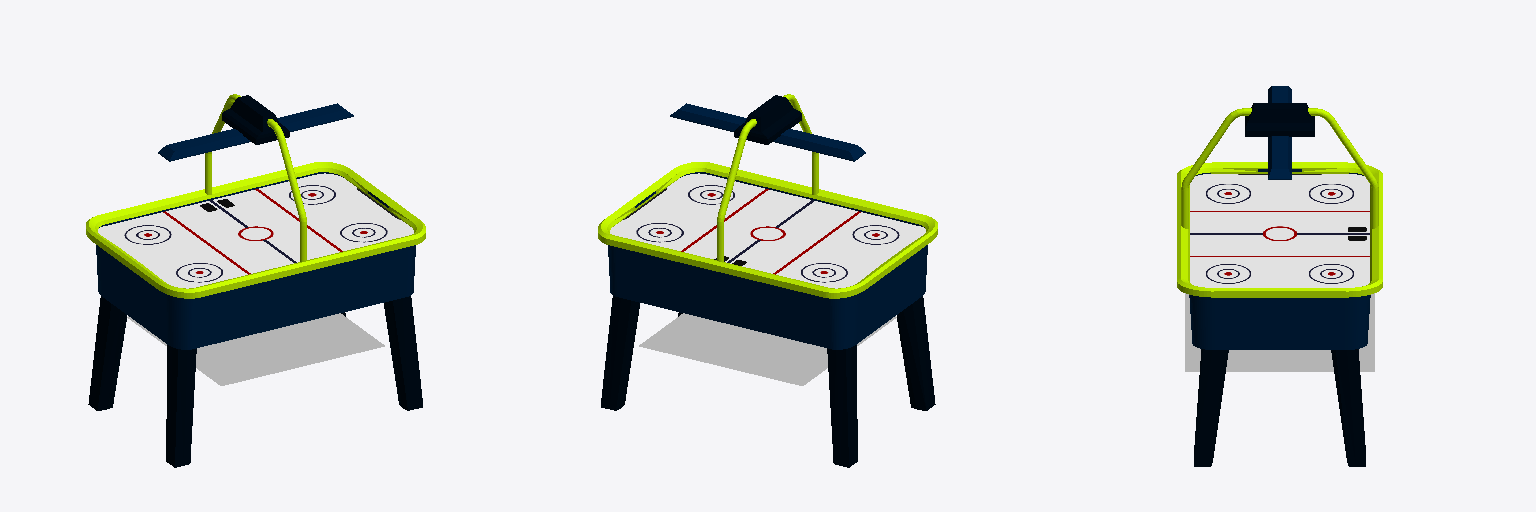
3 renders of one model, left to right at view 1: azimuth 30°, elevation 25°; view 2: azimuth 150°, elevation 25°; view 3: azimuth 270°, elevation 25°, orthographic.
Visible parts, largest first — view 1: GEO_airhockeytable_Plane, Plane; view 2: GEO_airhockeytable_Plane, Plane; view 3: GEO_airhockeytable_Plane, Plane.
Part boxes in pixels (left/top/right/bottom): GEO_airhockeytable_Plane: left=86, top=94, right=425, bottom=467; Plane: left=127, top=313, right=384, bottom=385; GEO_airhockeytable_Plane: left=598, top=94, right=937, bottom=467; Plane: left=639, top=313, right=896, bottom=385; GEO_airhockeytable_Plane: left=1177, top=86, right=1382, bottom=466; Plane: left=1185, top=293, right=1374, bottom=371.
Bounding box in the file's own units: 31.8 × 34.78 × 21.72.
Materials: 4 (1 with a texture image).